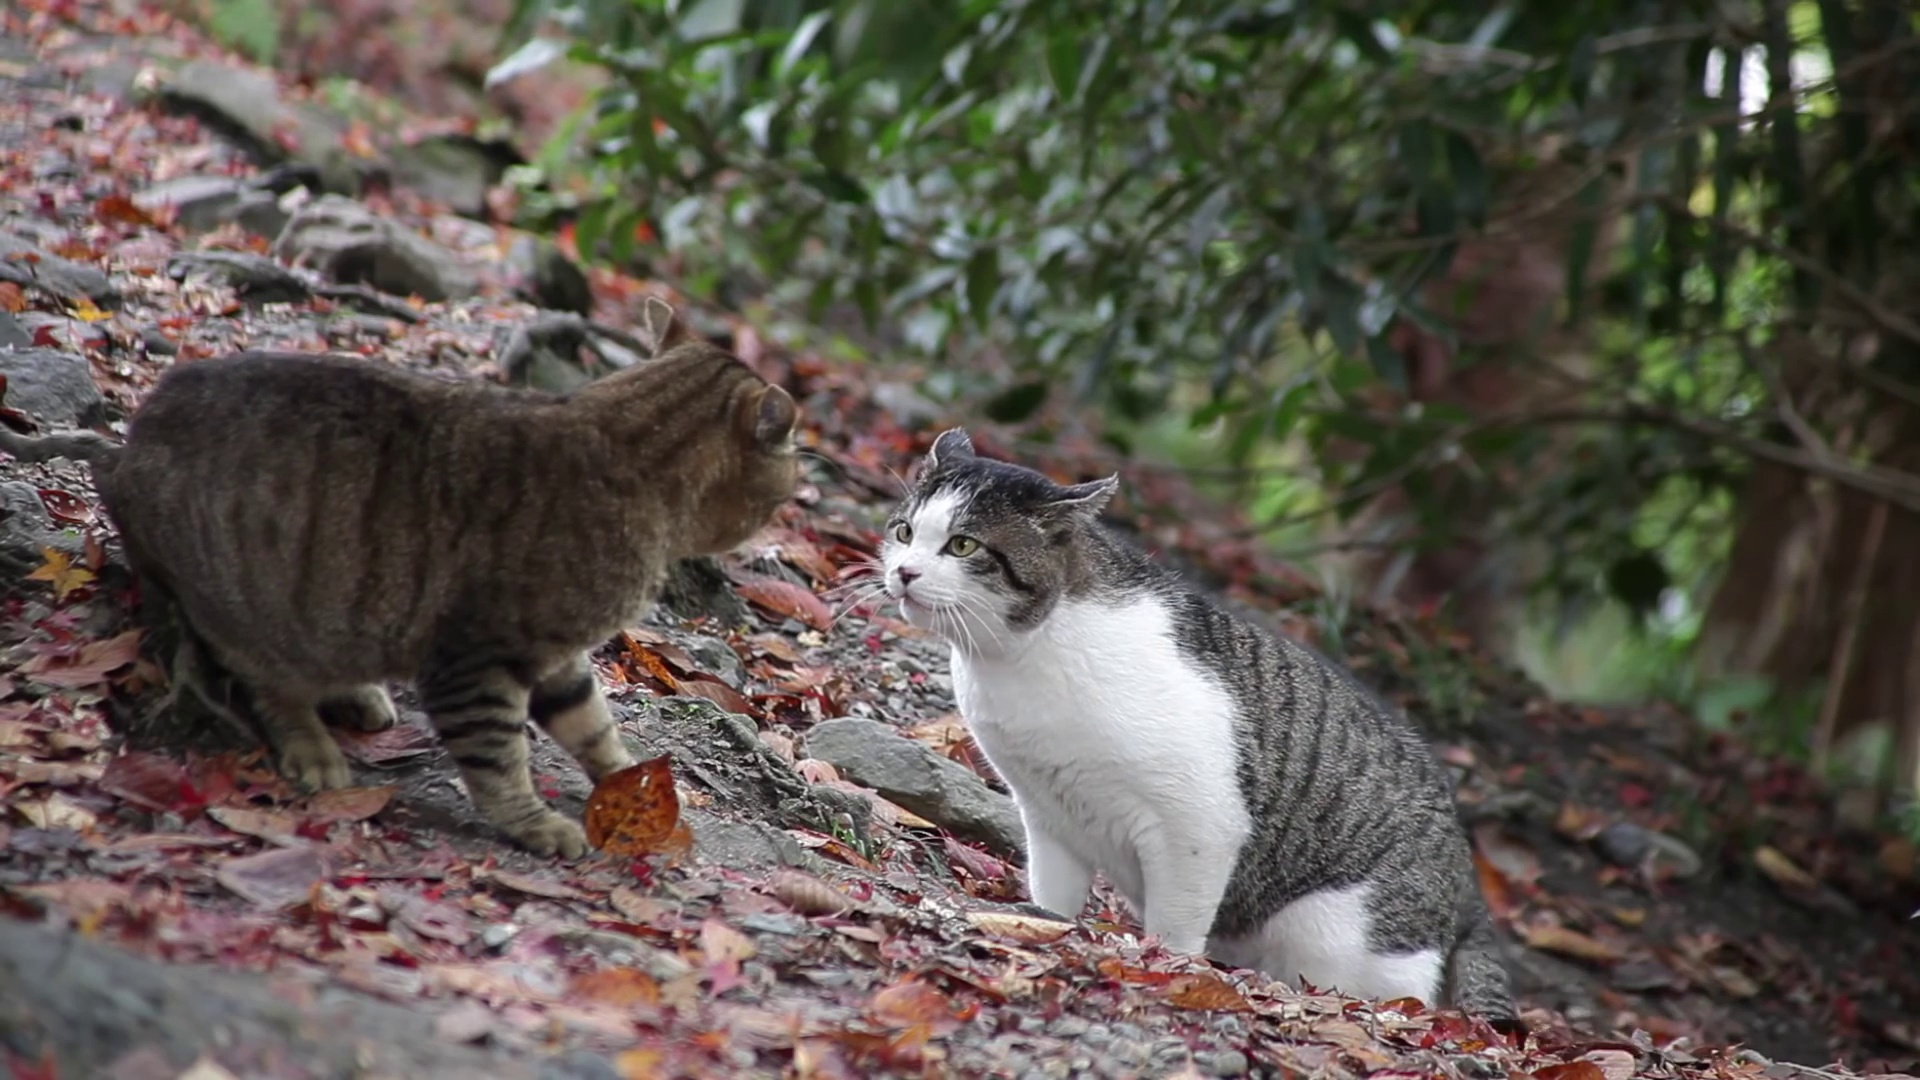black-white: (884, 429, 1506, 1002)
pure black: (127, 295, 796, 860)
